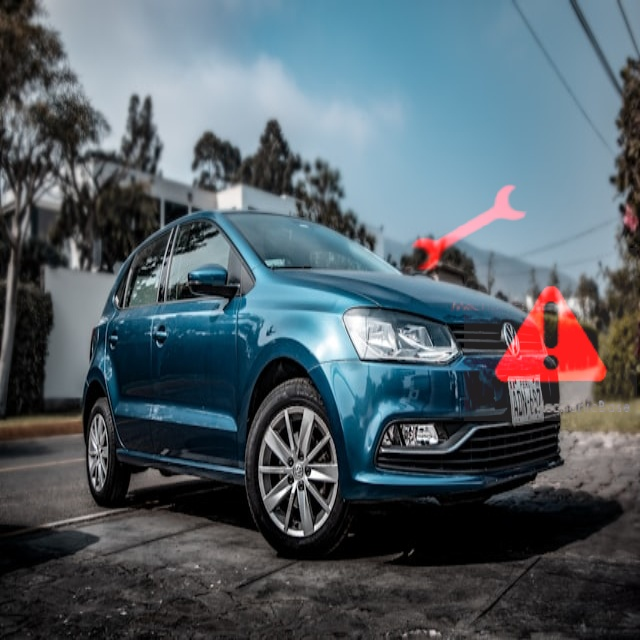symbol: (380, 138, 562, 320), (464, 248, 637, 421)
